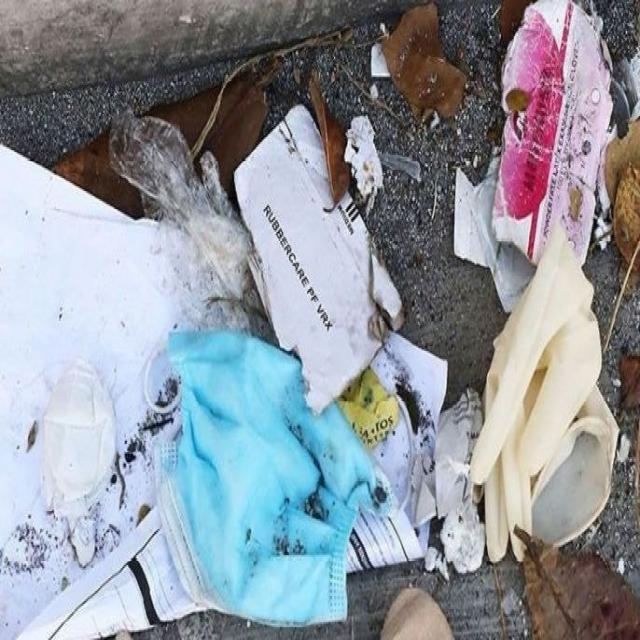non-organic waste: (144, 335, 391, 630)
